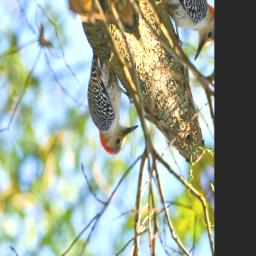Woodpecker: (57, 27, 151, 177)
